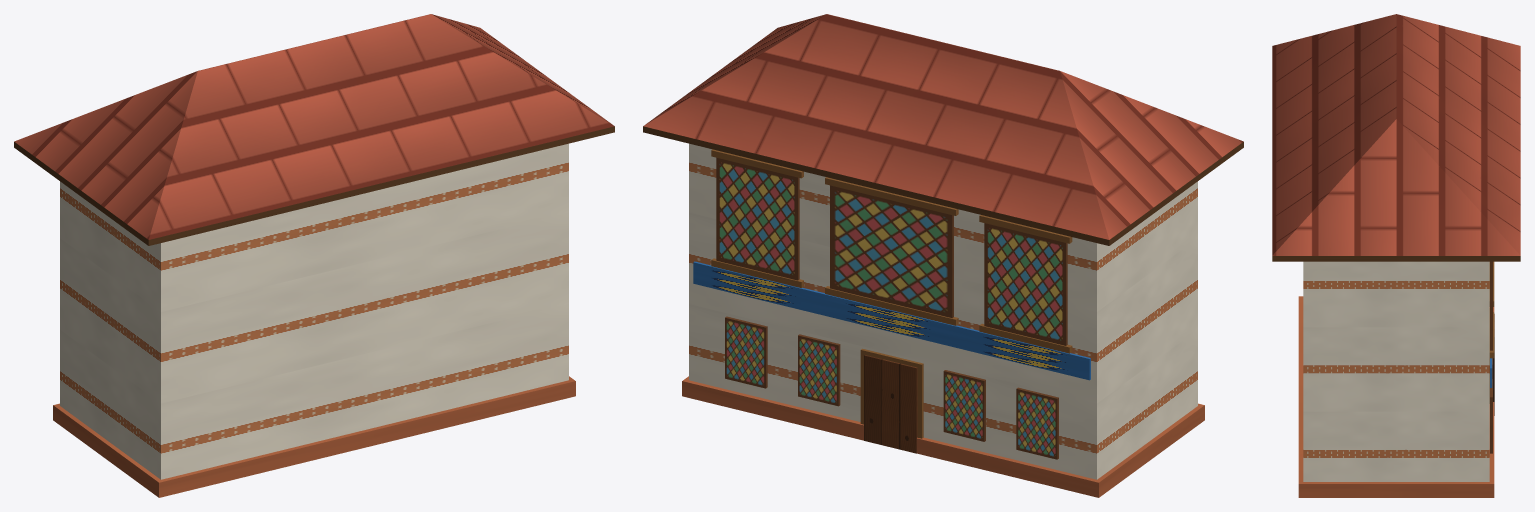
Rendered from env_sheki_palace.glb.
3 views of the same model, side by side, from view 1: azimuth 30°, elevation 25°; view 2: azimuth 150°, elevation 25°; view 3: azimuth 270°, elevation 25° (orthographic). The views are drawn at different scales.
Visible parts, largest first — view 1: env_sheki_palace; view 2: env_sheki_palace; view 3: env_sheki_palace.
Part boxes in pixels (x1,y1,x2,y2): env_sheki_palace: (14, 14, 614, 497); env_sheki_palace: (643, 14, 1243, 497); env_sheki_palace: (1272, 14, 1520, 497).
Size of the model in its own units: 16 by 12.02 by 8.
Materials: 1 (1 with a texture image).
